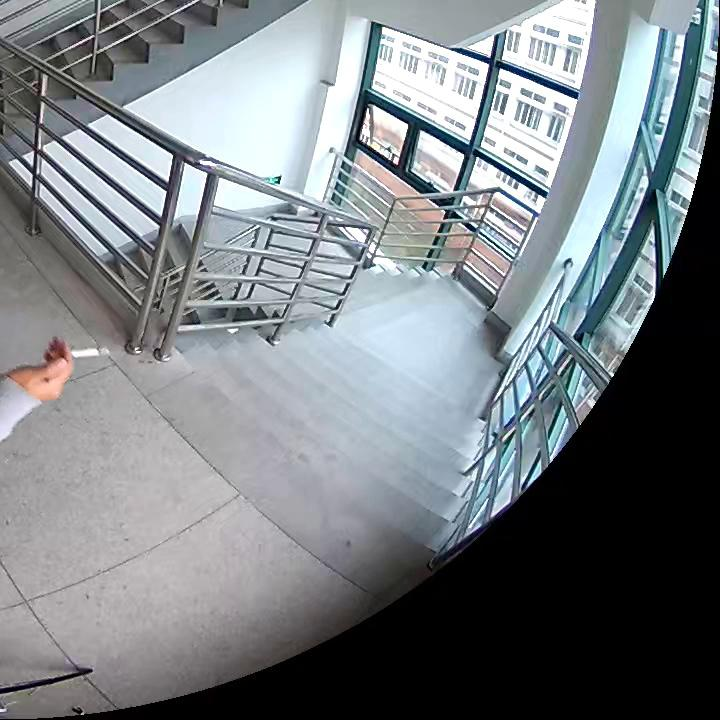handsmoke: (1, 335, 107, 396)
